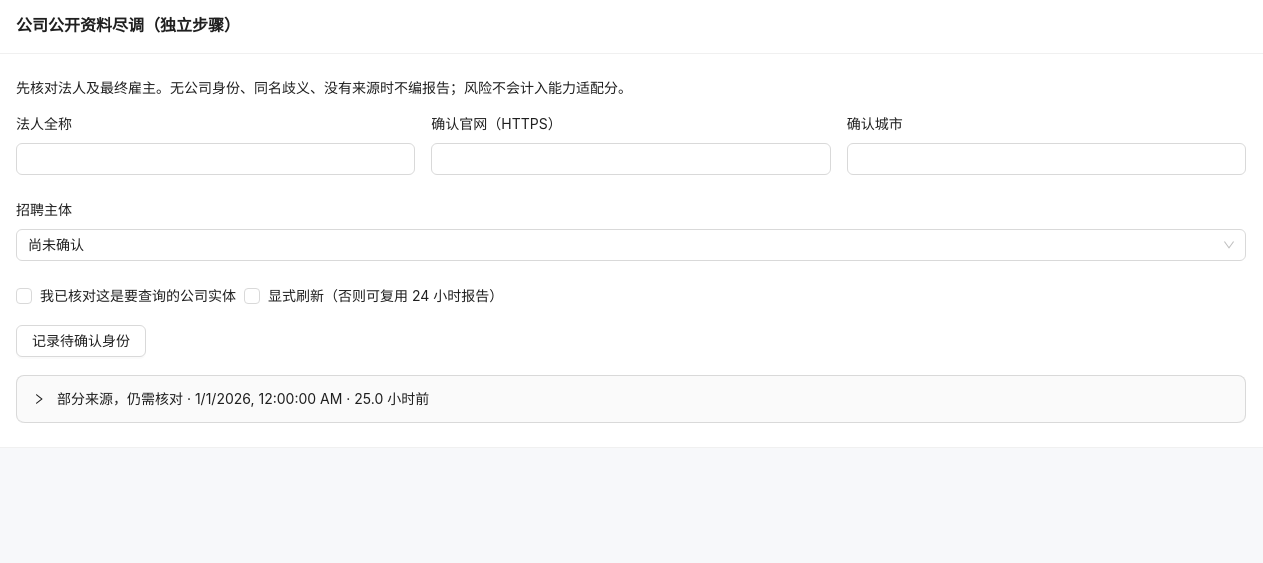
Test: 部分报告展示未知、来源和失败，不误报通过尽调
The width and height of the screenshot is (1263, 563).
Click the button "部分来源，仍需核对 · 1/1/2026, 12:00:00 AM · 25.0 小时前".
click(231, 398)  # box top-left (33, 390), bottom-right (429, 407)
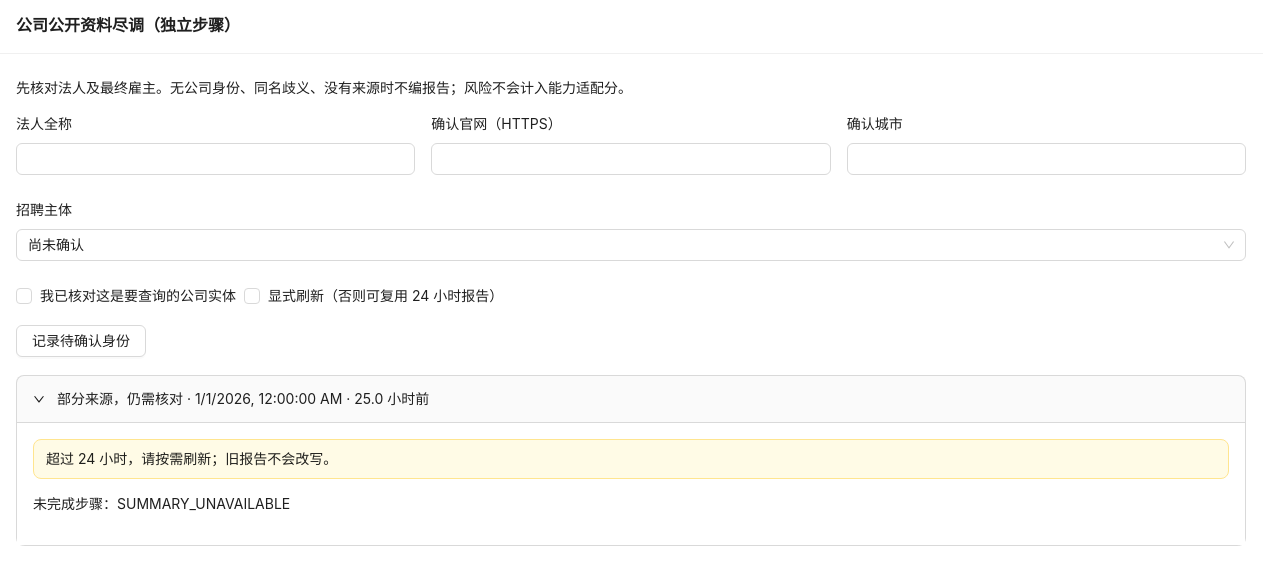
Expected: the text "SUMMARY_UNAVAILABLE" is shown, top-left (33, 495), bottom-right (290, 512)
Expected: the text "超过 24 小时" is shown, top-left (46, 450), bottom-right (337, 467)
